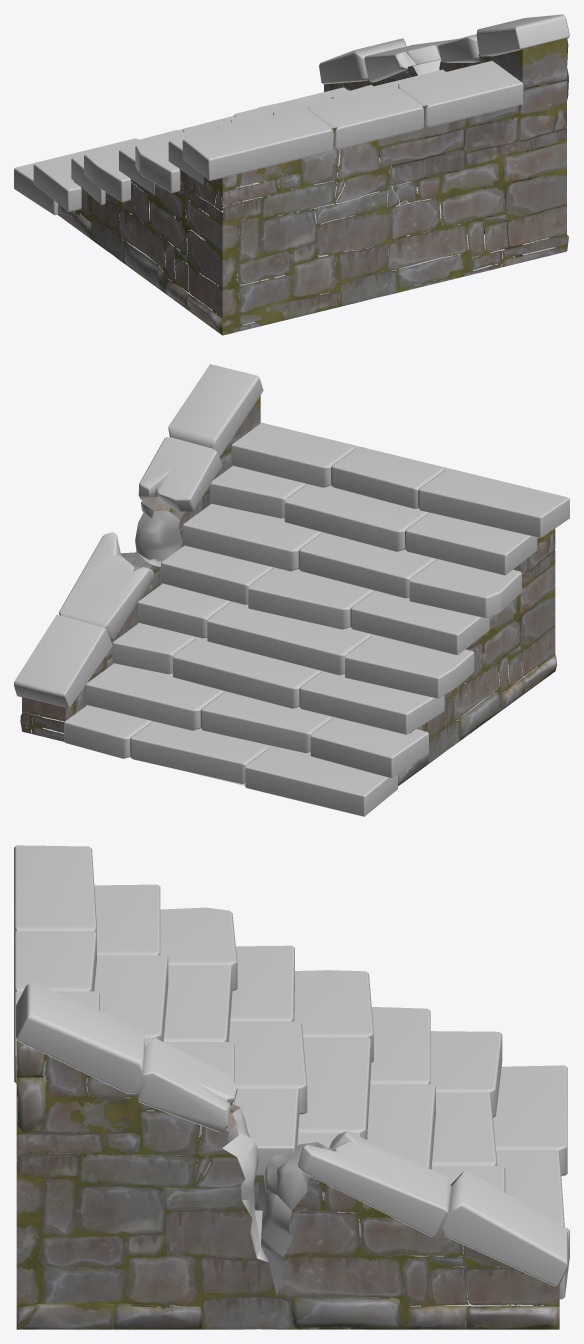
3 renders of one model, top to bottom at view 1: azimuth 30°, elevation 25°; view 2: azimuth 150°, elevation 25°; view 3: azimuth 270°, elevation 25°, orthographic. The views are drawn at different scales.
Parts seen in each view (by area): view 1: SM_Castle_Steps_4x2_01_v2_LOD0; view 2: SM_Castle_Steps_4x2_01_v2_LOD0; view 3: SM_Castle_Steps_4x2_01_v2_LOD0.
Boxes of the visible parts, left/top/right/bottom form: SM_Castle_Steps_4x2_01_v2_LOD0: left=14, top=14, right=569, bottom=335; SM_Castle_Steps_4x2_01_v2_LOD0: left=14, top=364, right=569, bottom=816; SM_Castle_Steps_4x2_01_v2_LOD0: left=14, top=845, right=569, bottom=1329.
Bounding box in the file's own units: 4.28 × 2.58 × 4.1.
